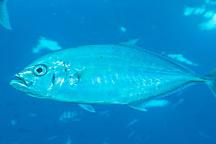Carangidae -Jacks-: (7, 37, 216, 116)
